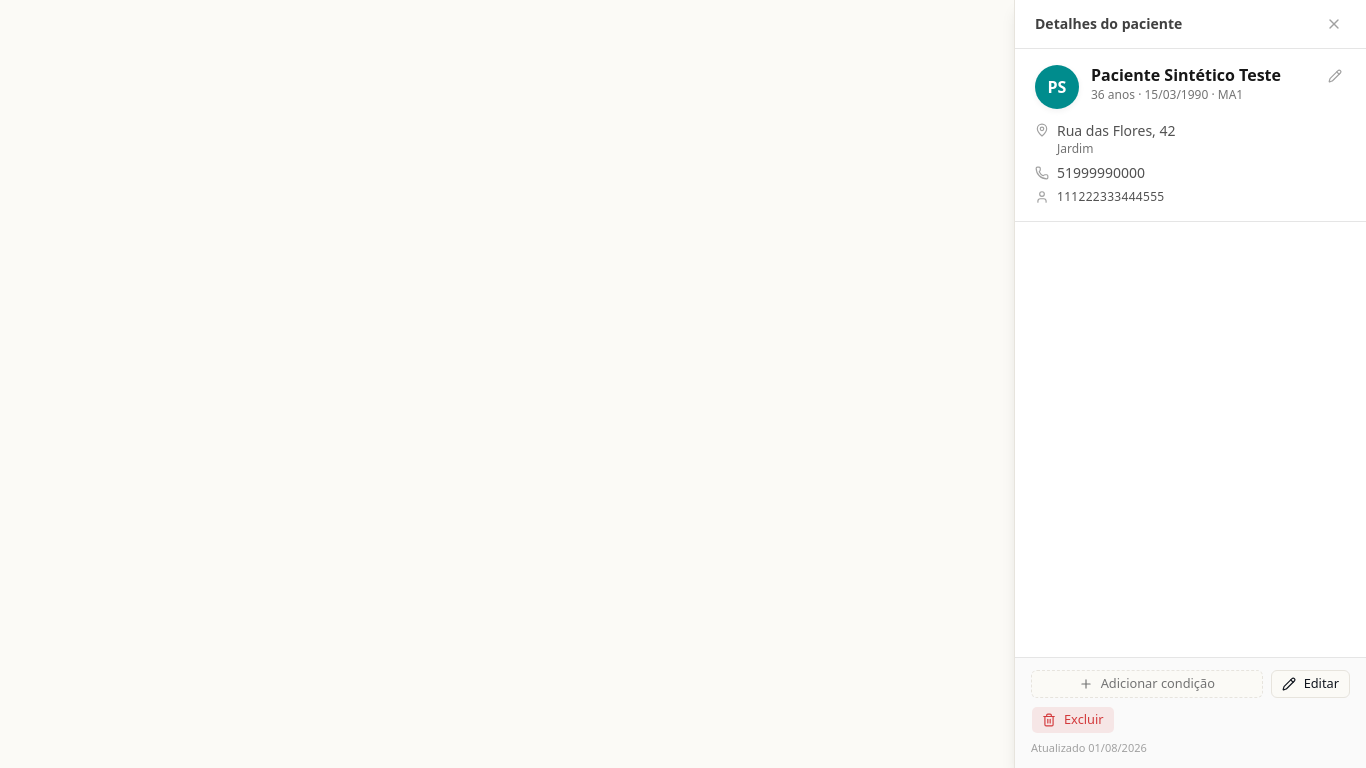
Test: PatientDetailPanel › Excluir paciente button opens patient delete confirm dialog
This screenshot has width=1366, height=768.
Click the button "Excluir" at (1073, 720), box [1031,706,1115,734]
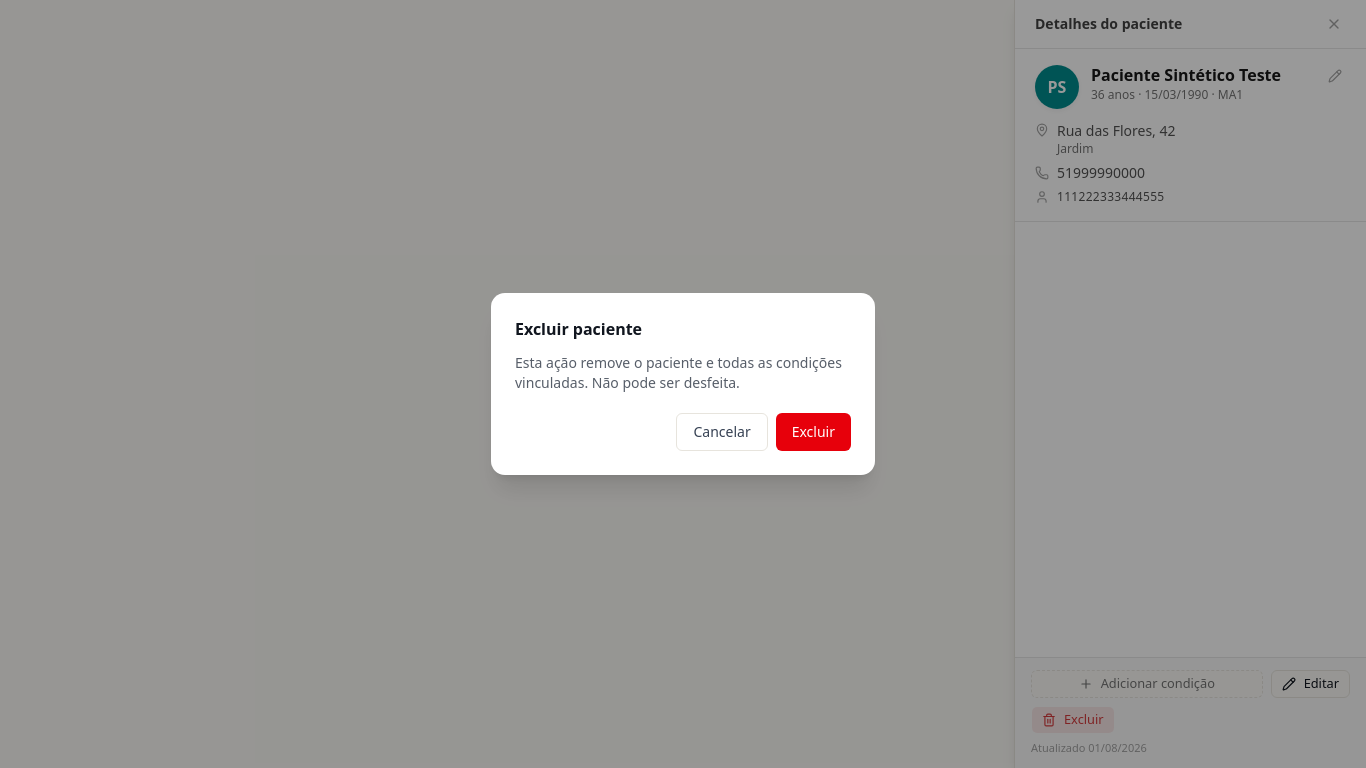
expect the heading "Excluir paciente" is shown: met, box [515,318,642,340]
